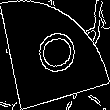O_W: (29, 28, 81, 82)
